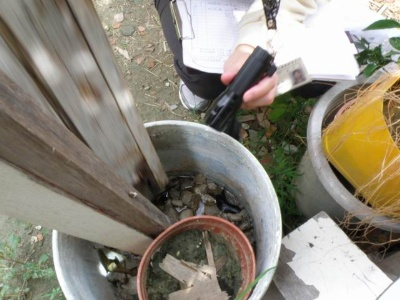bucket: (52, 120, 283, 300)
